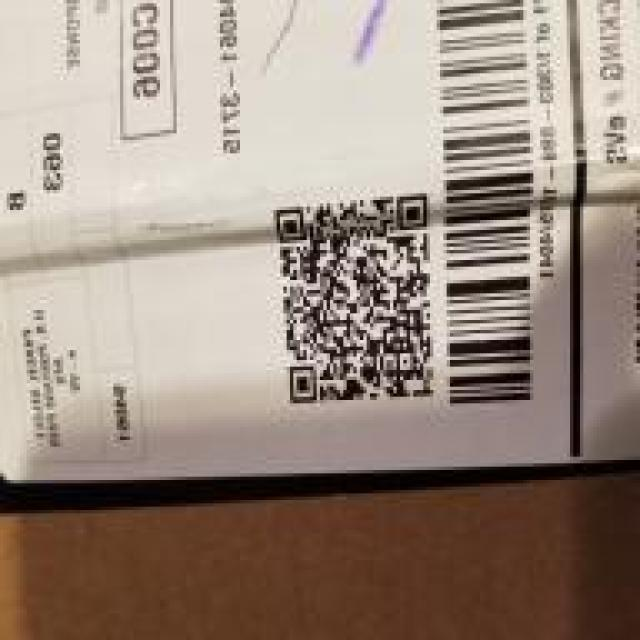QR_CODE: (266, 173, 436, 430)
